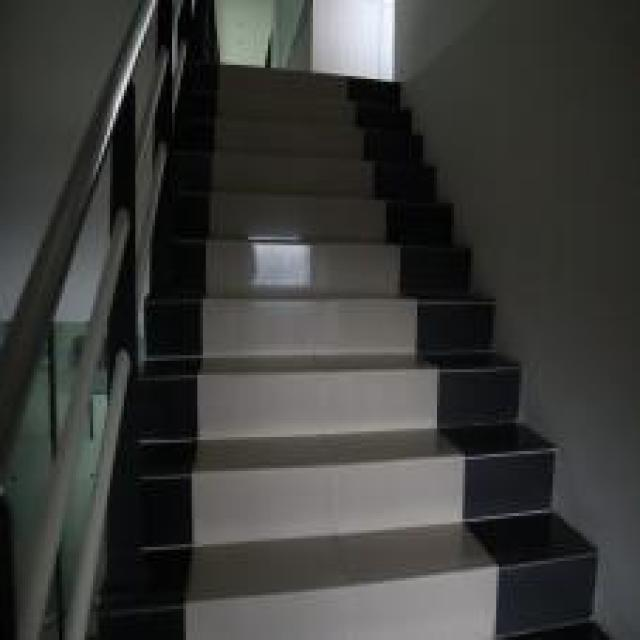upstair: (190, 122, 415, 466)
